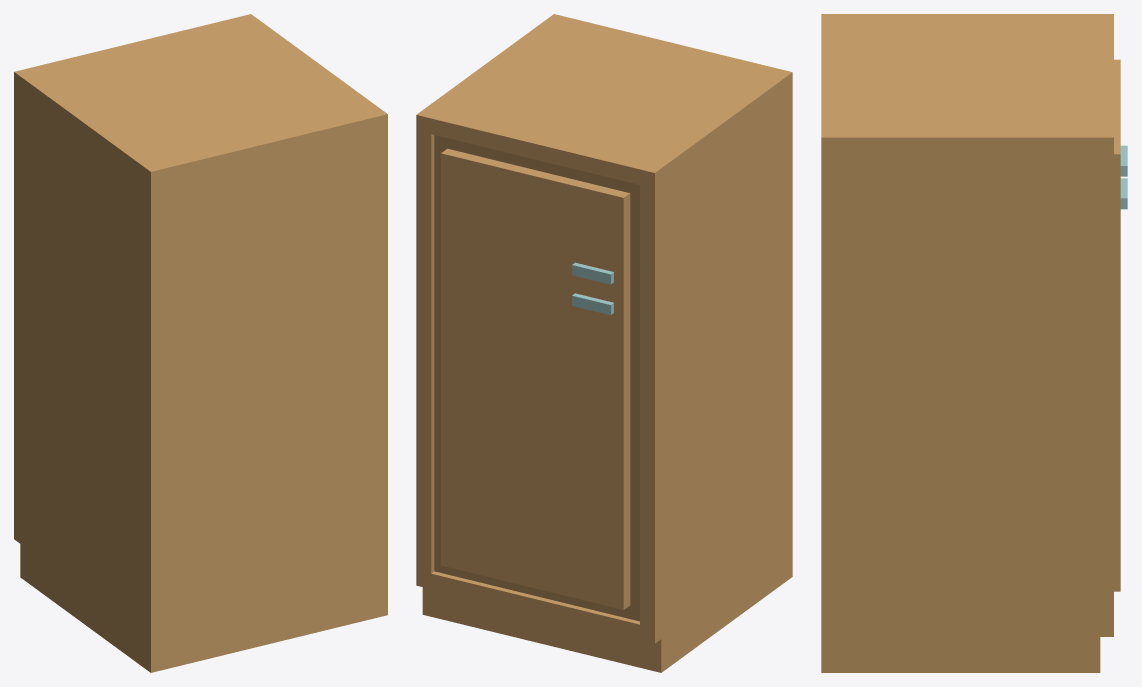
Rendered from kitchenFridgeBuiltIn.glb.
The picture shows the model from 3 angles, left to right: view 1: azimuth 30°, elevation 25°; view 2: azimuth 150°, elevation 25°; view 3: azimuth 270°, elevation 25°; orthographic projection. The views are drawn at different scales.
Size of the model in its own units: 4.3 by 8.69 by 4.5.
